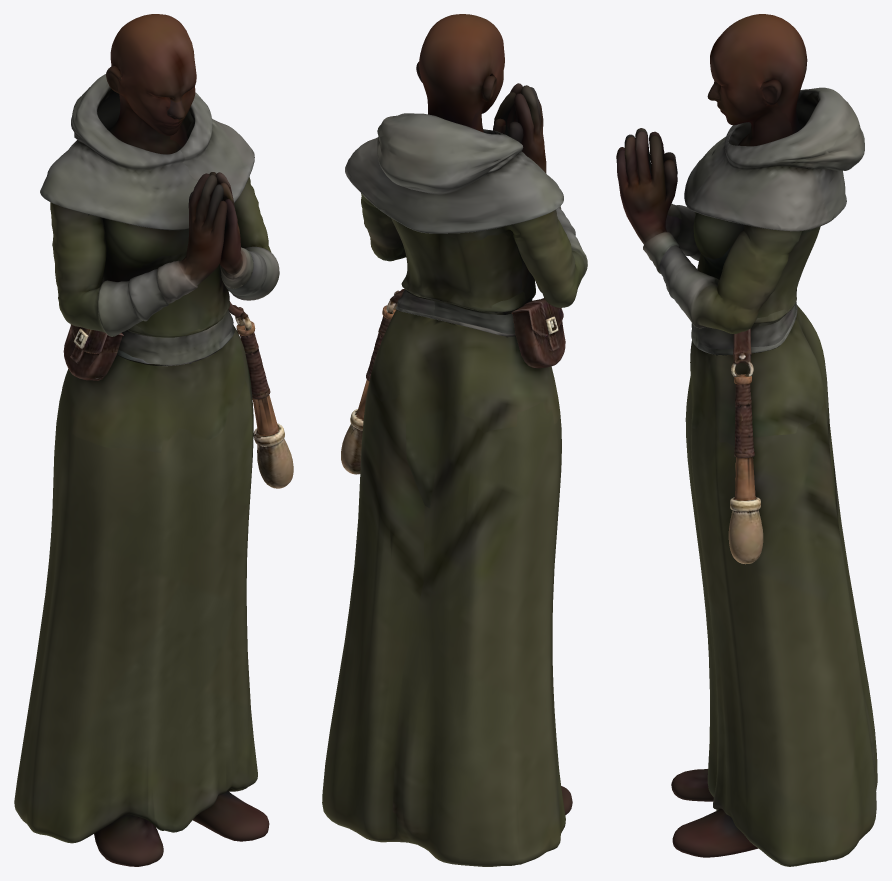
The model's file is MZ4250 - Acolyte Female_2 2025.glb.
The picture shows the model from 3 angles, left to right: view 1: azimuth 30°, elevation 25°; view 2: azimuth 150°, elevation 25°; view 3: azimuth 270°, elevation 25°; orthographic projection.
Visible parts, largest first — view 1: Body.002; view 2: Body.002; view 3: Body.002.
Boxes of the visible parts, x1,y1,x2,y2 form: Body.002: (14,14,293,866); Body.002: (322,14,587,866); Body.002: (616,14,877,866).
Bounding box in the file's own units: 27.93 × 90.25 × 26.66.
Materials: 2 (2 with a texture image).
